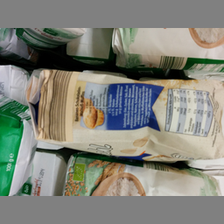flour: (26, 69, 223, 161)
